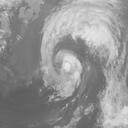cyclone: (35, 11, 108, 98)
